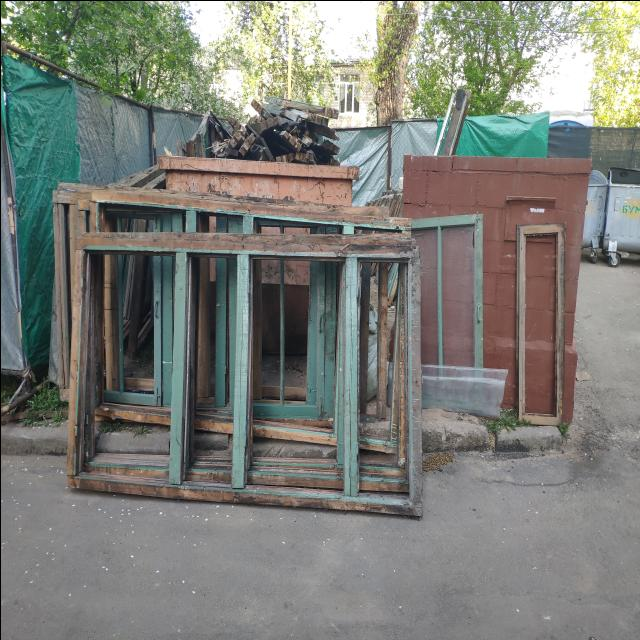entulho: (49, 184, 427, 503), (172, 94, 343, 169), (412, 208, 484, 372), (514, 218, 565, 428), (416, 362, 505, 422)
